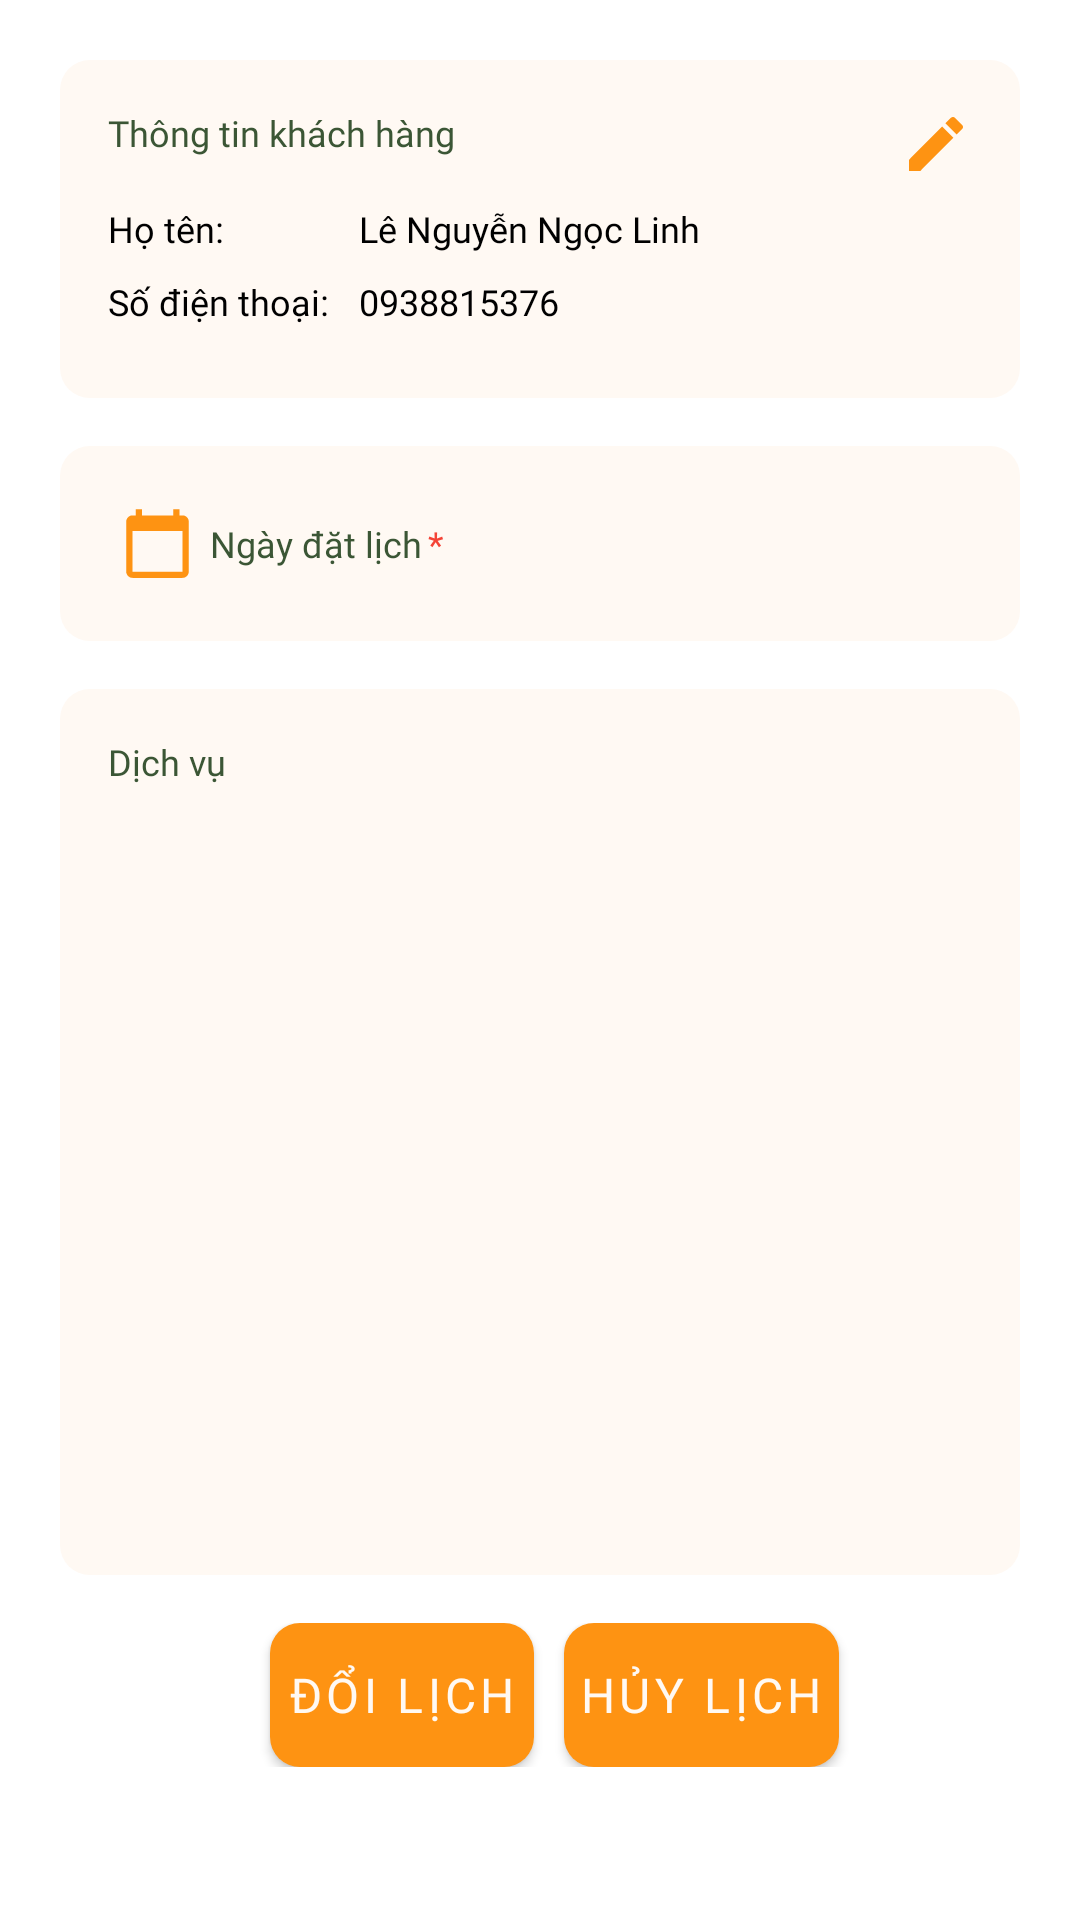

Screen size 1080*1920. Icon name, then its box in pixels as (x1, y1, x2, y2):
calendar picker: (126, 509, 189, 578)
